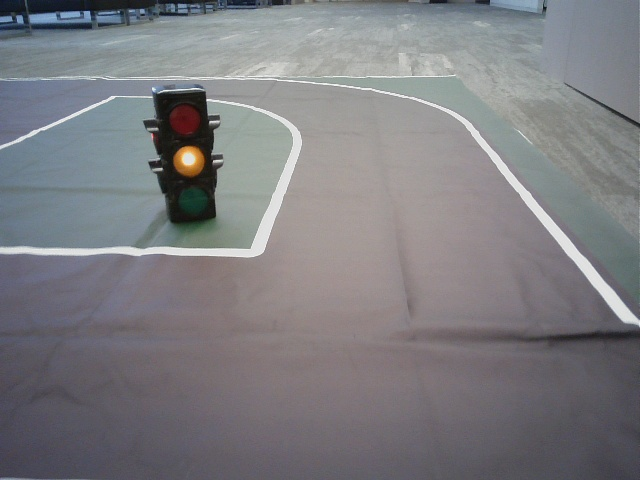yellow: (159, 95, 213, 214)
